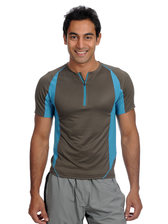clothoes: (30, 59, 138, 182)
